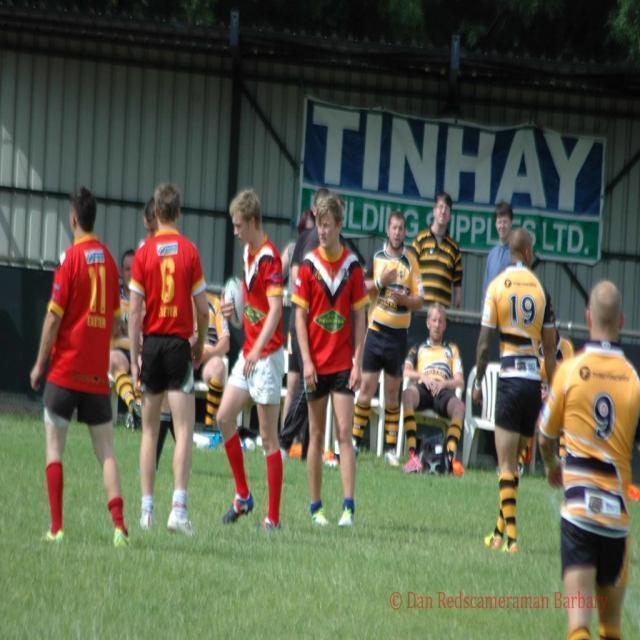ball: (225, 273, 246, 327)
